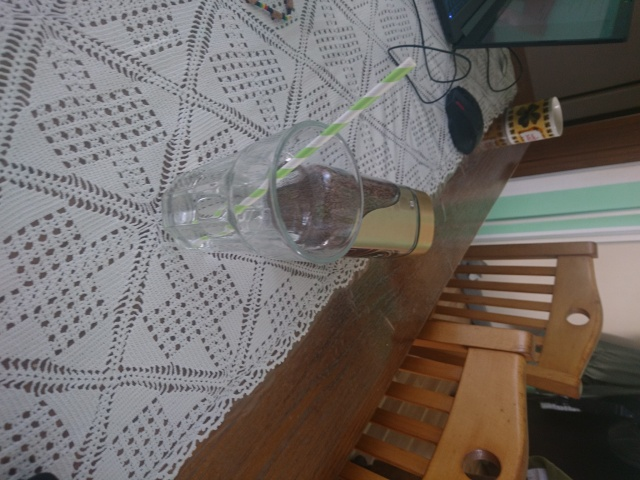Nescafe Gold 225g: (263, 157, 438, 260)
